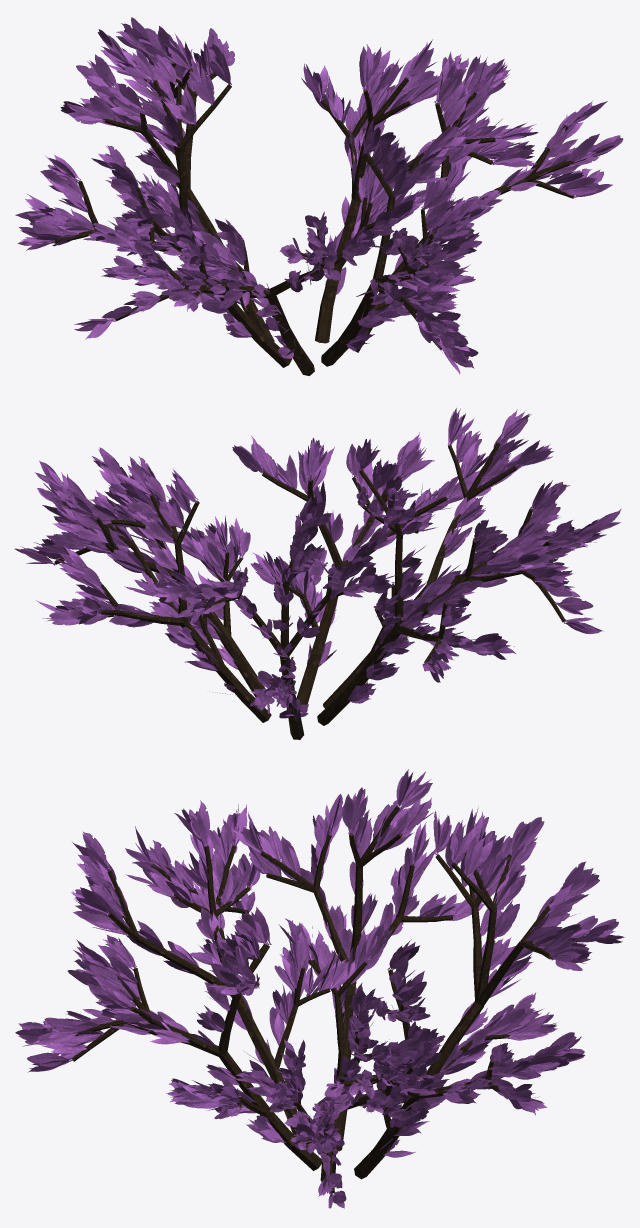
Rendered from heather_dwarf_v01.fbx.
3 views of the same model, one above another, from view 1: azimuth 30°, elevation 25°; view 2: azimuth 150°, elevation 25°; view 3: azimuth 270°, elevation 25° (orthographic). The views are drawn at different scales.
Visible parts, largest first — view 1: heather_dwarf_v01; view 2: heather_dwarf_v01; view 3: heather_dwarf_v01.
Part boxes in pixels (left/top/right/bottom): heather_dwarf_v01: left=15, top=17, right=623, bottom=375; heather_dwarf_v01: left=14, top=408, right=621, bottom=739; heather_dwarf_v01: left=15, top=769, right=624, bottom=1208.
Bounding box in the file's own units: 57.62 × 31.18 × 51.24.
Materials: 2 (2 with a texture image).
